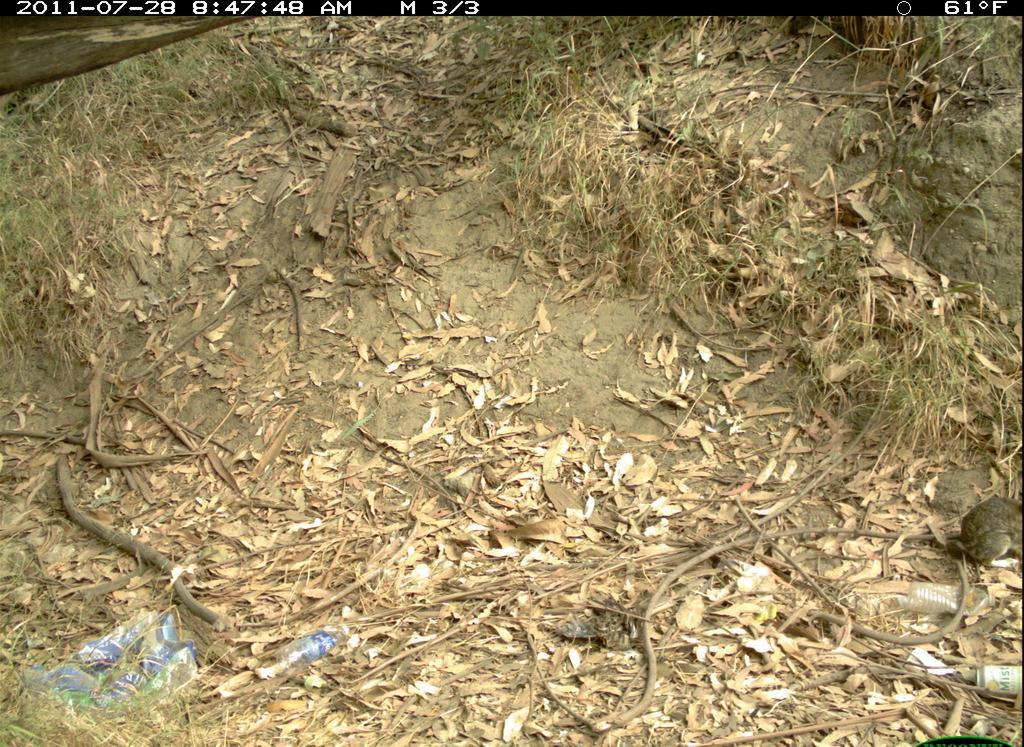rabbit: (953, 489, 1021, 570)
